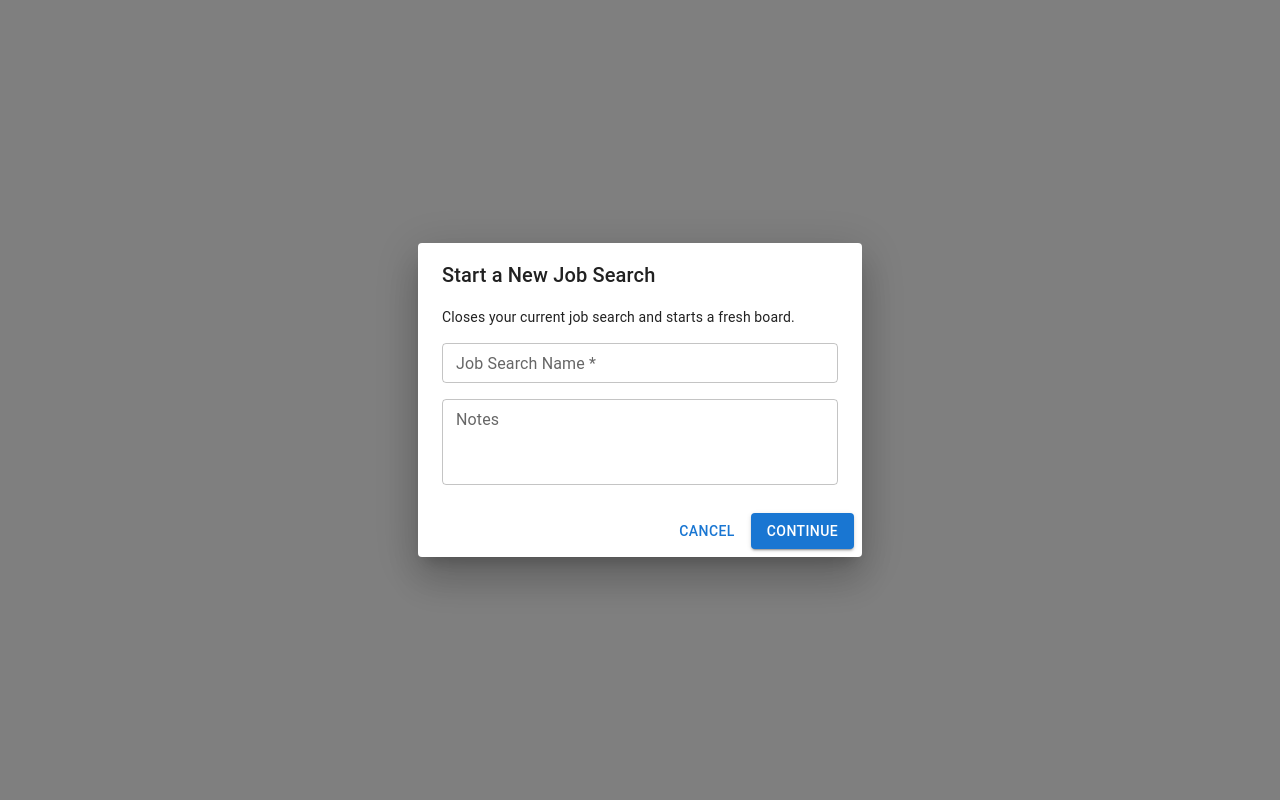
it: newSearchRoundDialog › shows validation error when confirmed without a name
Click the button "Continue": (802, 531) [751,513,854,549]
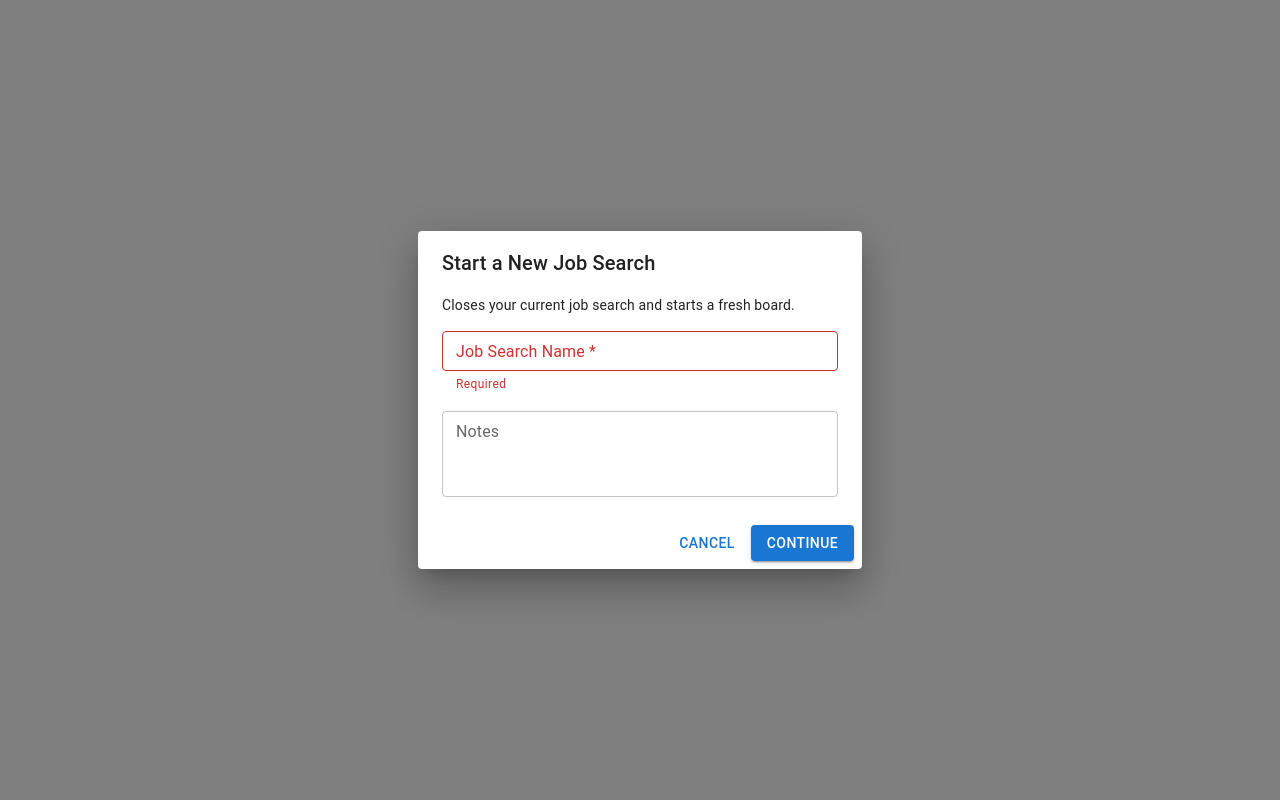
Check: the text "Required" is shown, box [456,377,506,391]
